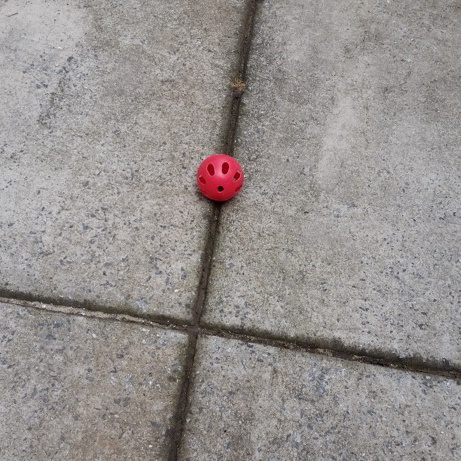redball: (193, 149, 246, 204)
